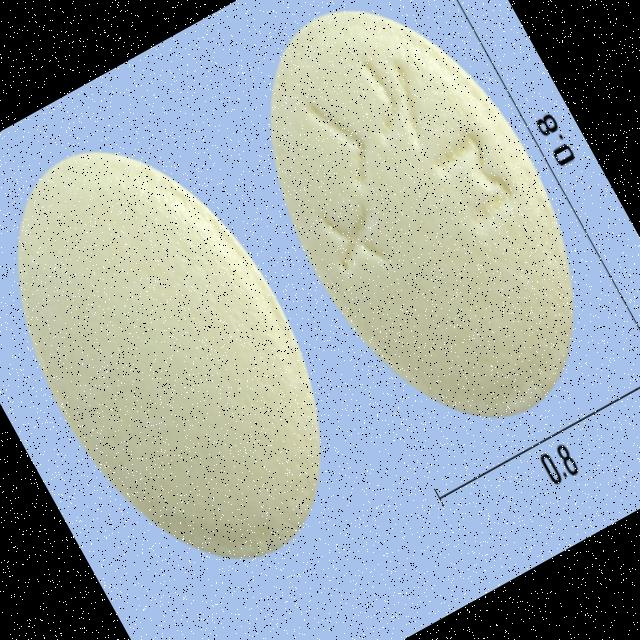Lerocin: (203, 0, 636, 466), (0, 97, 383, 607)
